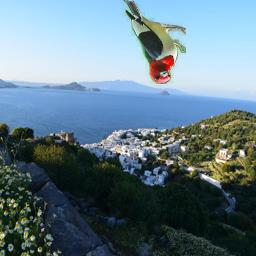Woodpecker: (122, 0, 186, 84)
